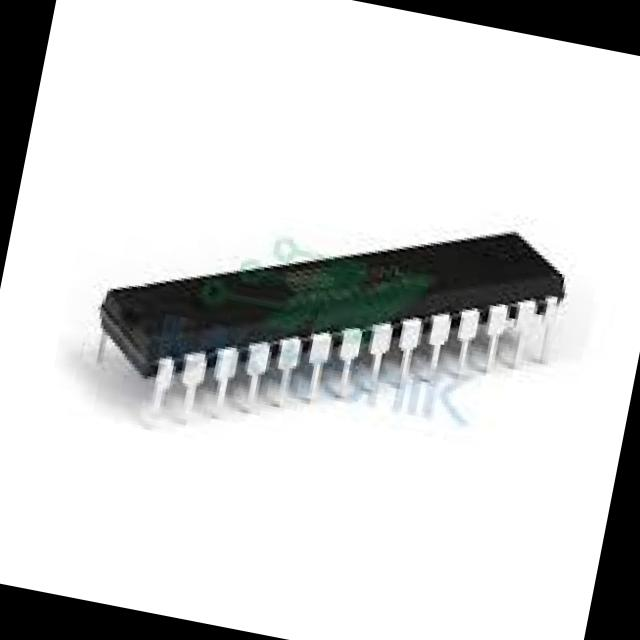atmega: (73, 151, 582, 498)
